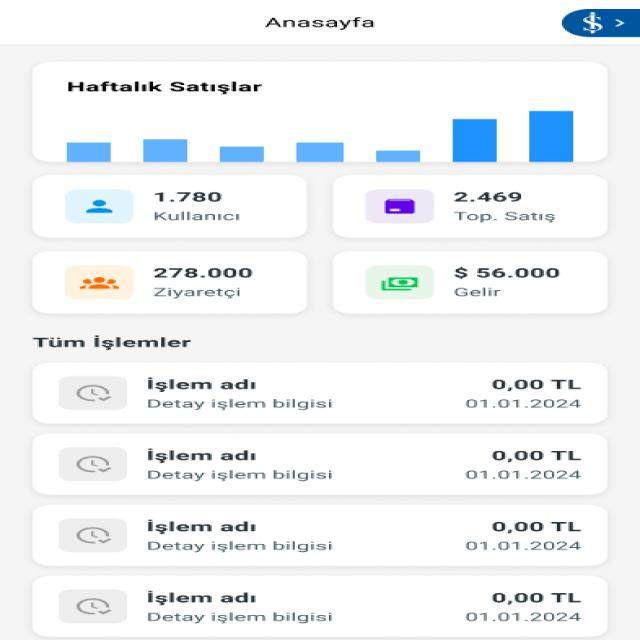QLabel: (29, 334, 195, 352), (248, 12, 385, 33), (141, 539, 340, 553), (141, 397, 339, 411), (141, 468, 339, 482), (142, 611, 340, 625), (140, 378, 261, 392), (454, 208, 558, 224), (143, 448, 258, 462), (143, 519, 258, 533), (144, 590, 258, 604), (486, 377, 585, 392), (463, 611, 584, 623), (463, 540, 584, 552), (148, 286, 246, 300), (464, 398, 582, 409), (455, 267, 563, 279), (487, 449, 584, 462), (463, 470, 582, 480), (148, 189, 225, 204), (488, 592, 584, 604), (488, 520, 583, 532), (151, 268, 254, 278), (149, 211, 245, 221), (452, 192, 522, 202), (451, 287, 504, 299)
VAppBar: (0, 0, 640, 44)
VCard: (29, 574, 614, 640), (30, 504, 614, 570), (30, 360, 611, 426), (28, 433, 614, 498), (327, 166, 611, 248), (34, 173, 310, 240), (31, 250, 307, 316), (330, 250, 609, 315)
VImg: (31, 61, 610, 162), (58, 375, 130, 411), (364, 188, 436, 224), (57, 518, 128, 554), (64, 188, 134, 224), (64, 264, 134, 300), (58, 447, 128, 482), (58, 589, 127, 624), (562, 7, 639, 38), (365, 265, 435, 299)
